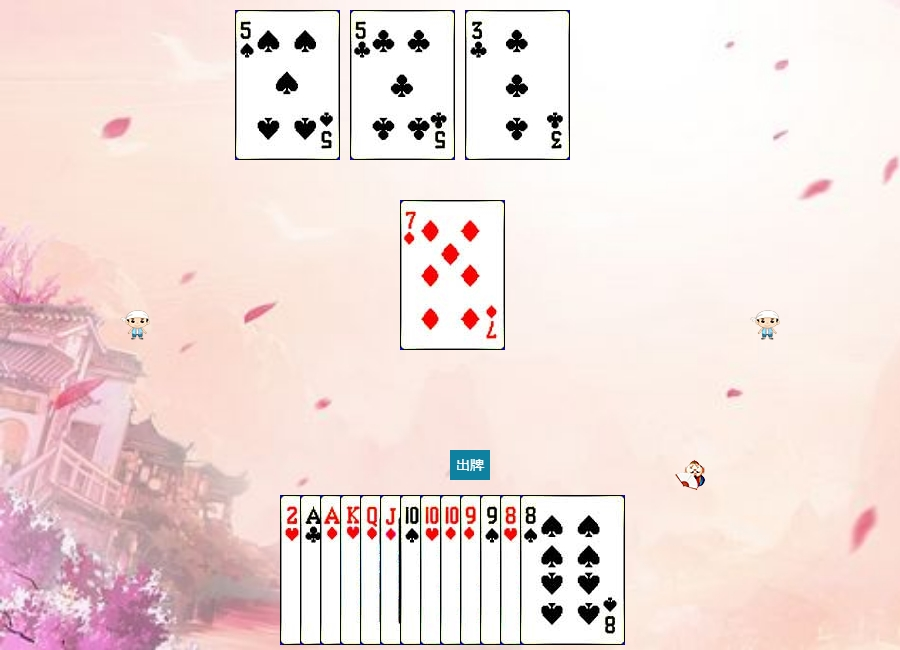10~1: (440, 495, 545, 645)
10~3: (420, 495, 525, 645)
10~4: (400, 495, 505, 645)
11~1: (380, 495, 485, 645)
12~1: (360, 495, 465, 645)
13~3: (340, 495, 445, 645)
14~1: (320, 495, 425, 645)
14~2: (300, 495, 405, 645)
15~3: (280, 495, 385, 645)
3~2: (465, 10, 570, 160)
5~2: (350, 10, 455, 160)
5~4: (235, 10, 340, 160)
7~1: (400, 200, 505, 350)
8~3: (500, 495, 605, 645)
8~4: (520, 495, 625, 645)
9~1: (460, 495, 565, 645)
9~4: (480, 495, 585, 645)
